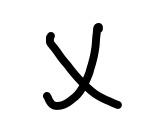mult: (43, 22, 122, 111)
